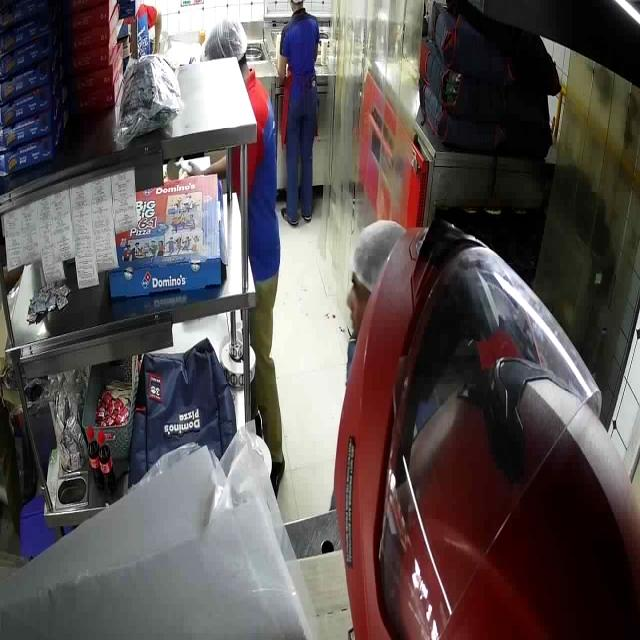helmet: (332, 218, 638, 639)
